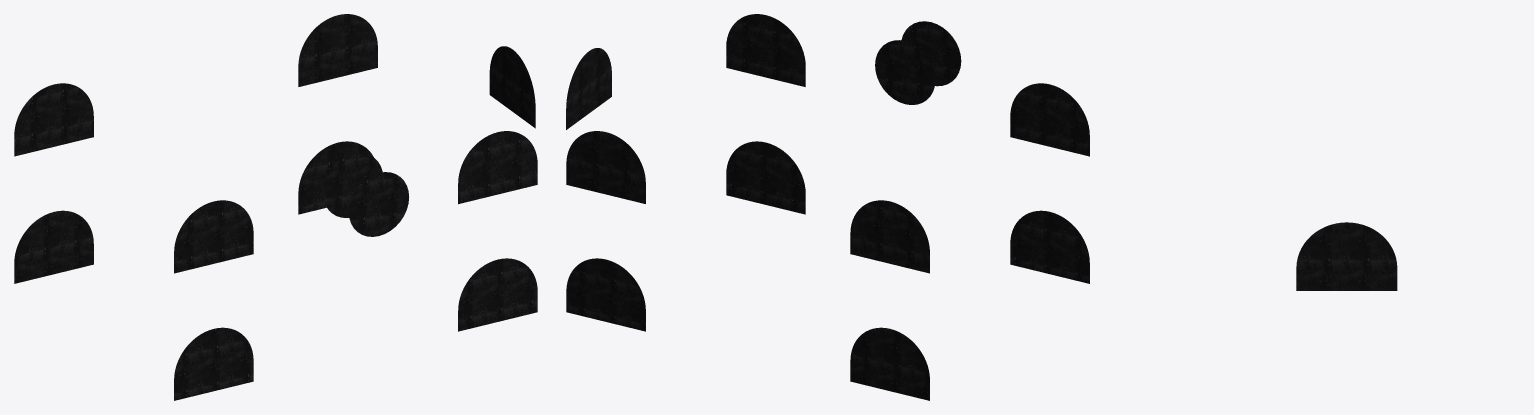
File: VENTANAS.obj
3 renders of one model, left to right at view 1: azimuth 30°, elevation 25°; view 2: azimuth 150°, elevation 25°; view 3: azimuth 270°, elevation 25°, orthographic. The views are drawn at different scales.
Visible parts, largest first — view 1: Vidrios; view 2: Vidrios; view 3: Vidrios.
Boxes of the visible parts, x1,y1,x2,y2 form: Vidrios: (14,14,537,400); Vidrios: (566,14,1089,400); Vidrios: (1296,222,1397,290).
Size of the model in its own units: 10.34 by 4.72 by 7.8.
1 material, 1 textured.
